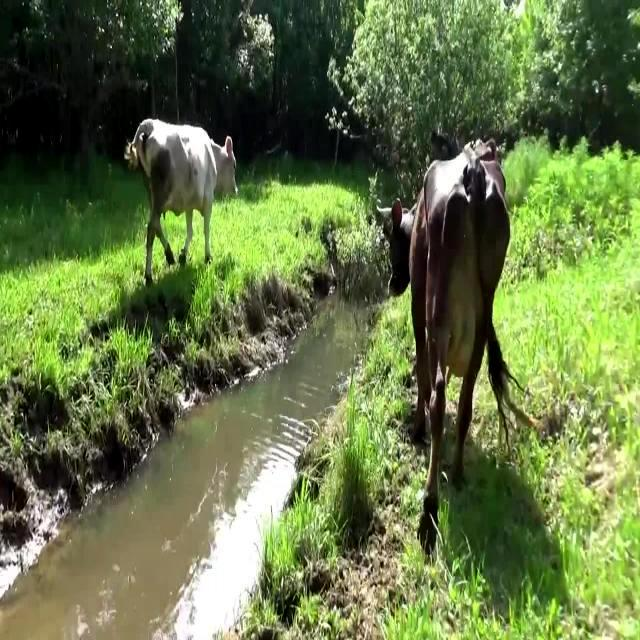COW: (390, 141, 531, 553), (125, 119, 238, 284)
